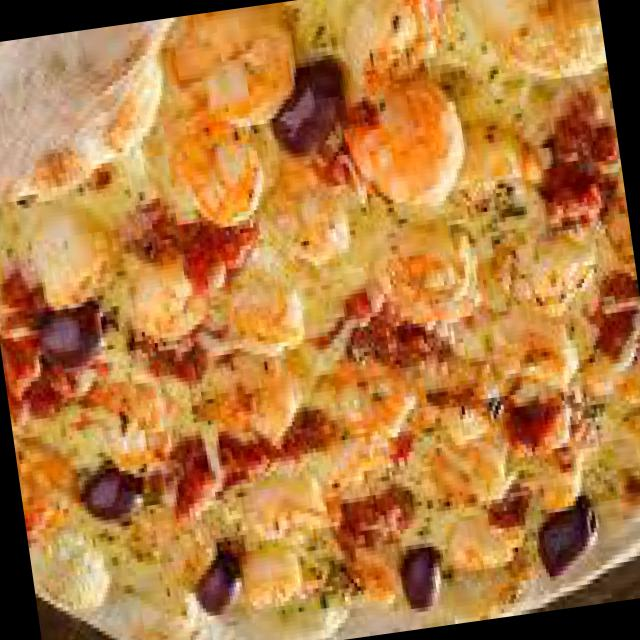camarao: (332, 68, 476, 238), (155, 6, 304, 145), (159, 126, 272, 236), (14, 431, 90, 548)
pizza: (0, 0, 639, 639)
